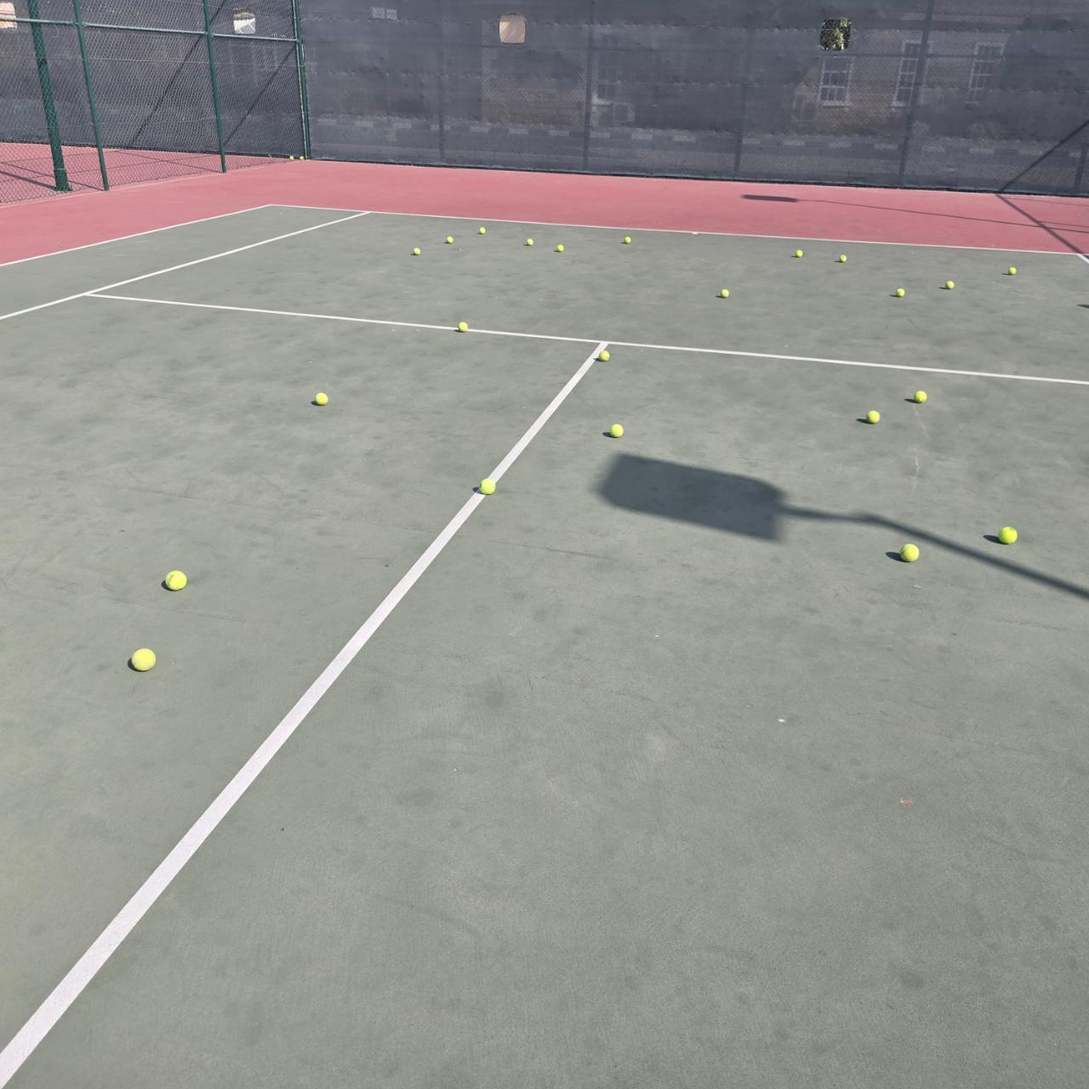tennis-ball: (128, 646, 157, 672), (162, 567, 187, 591), (898, 540, 919, 562), (997, 524, 1018, 544), (478, 476, 496, 494), (609, 423, 624, 439), (866, 408, 880, 423), (913, 389, 927, 404), (315, 393, 329, 405), (456, 319, 468, 333), (598, 350, 611, 361), (944, 280, 955, 290), (896, 288, 905, 298), (720, 289, 729, 298), (413, 247, 421, 256), (1008, 267, 1017, 275), (624, 236, 632, 244), (556, 244, 564, 252), (446, 236, 454, 243), (479, 227, 486, 234), (795, 250, 802, 257), (839, 255, 846, 262), (527, 238, 533, 245), (289, 155, 295, 160), (299, 156, 305, 160)
